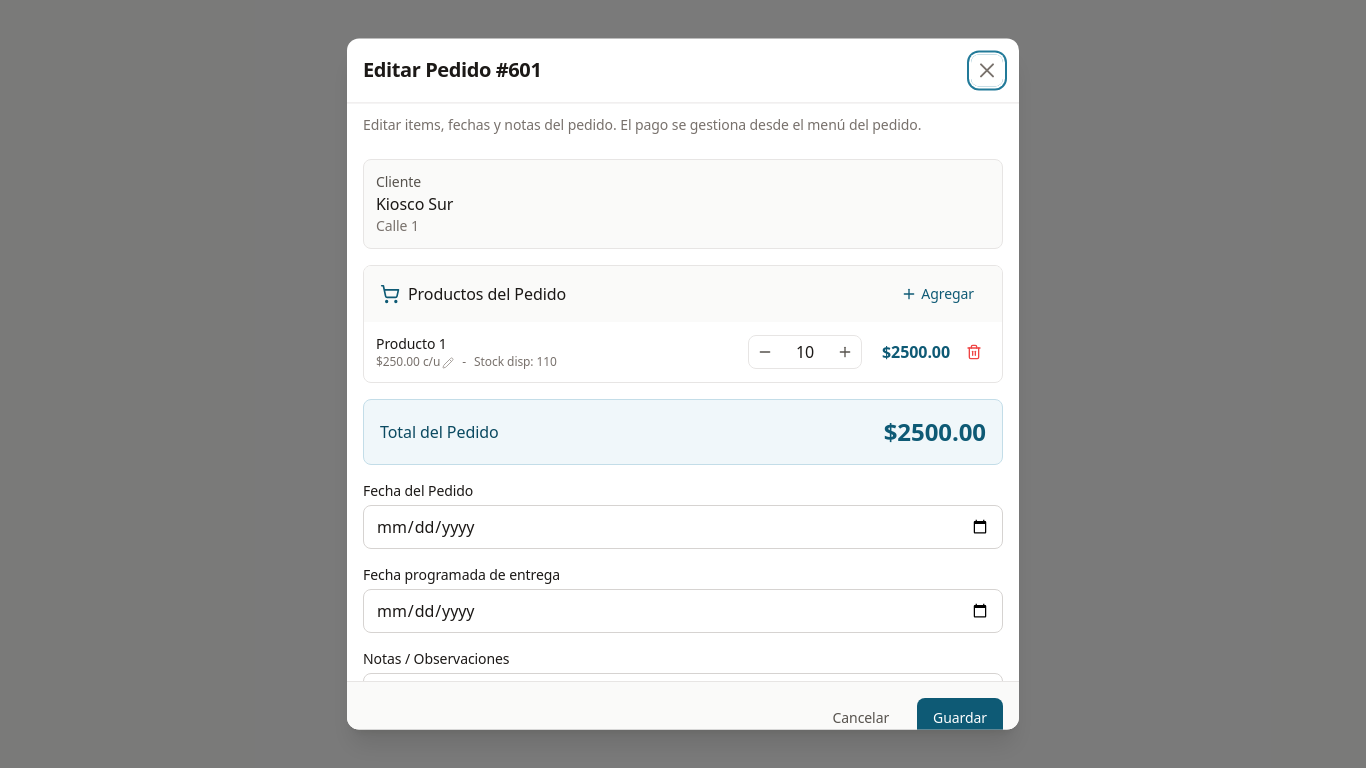
Test case: ModalEditarPedido — guardado › si el guardado falla, el botón se libera para reintentar
Expected: the text "Producto 1" is shown, [376, 334, 447, 354]
Click the 3rd button at (765, 352), box [749, 336, 781, 368]
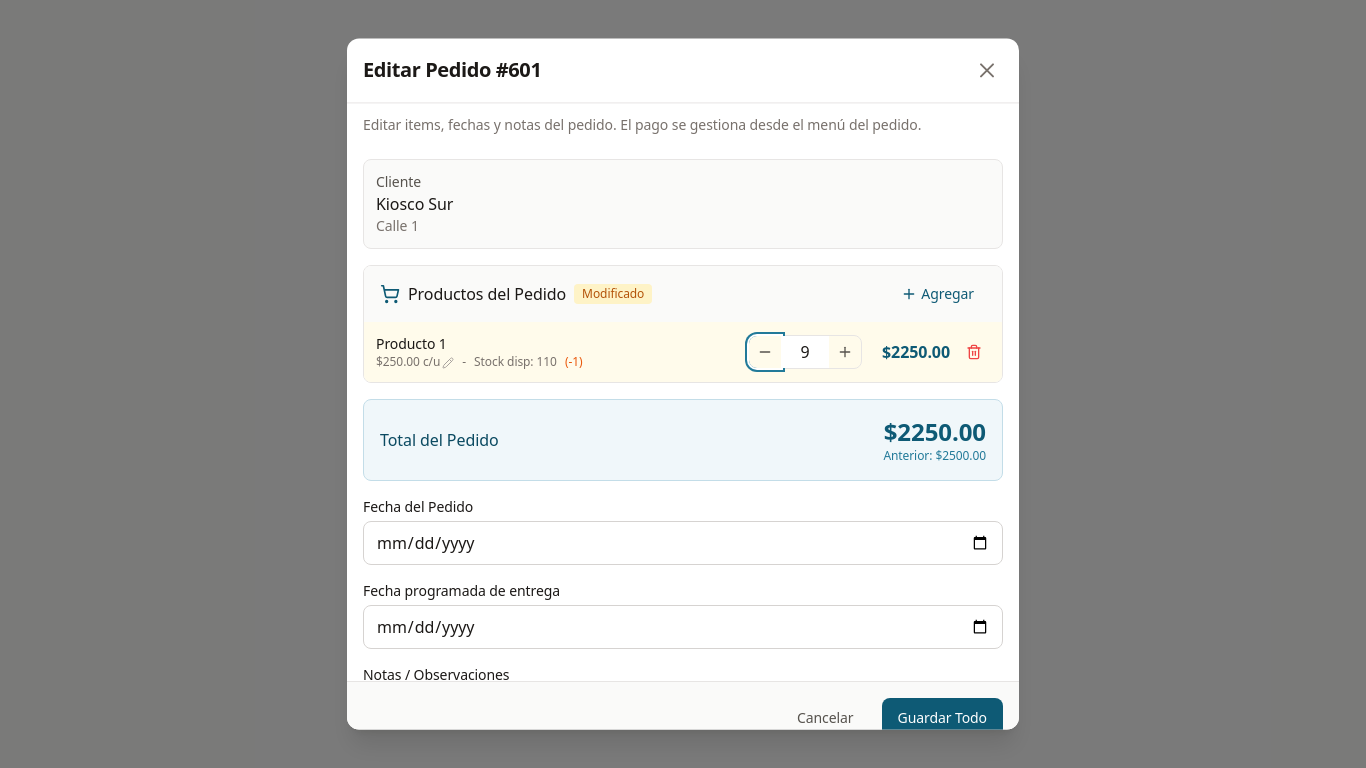
Click the button "Guardar Todo" at (942, 718), box [882, 698, 1003, 738]
(page scrolled)
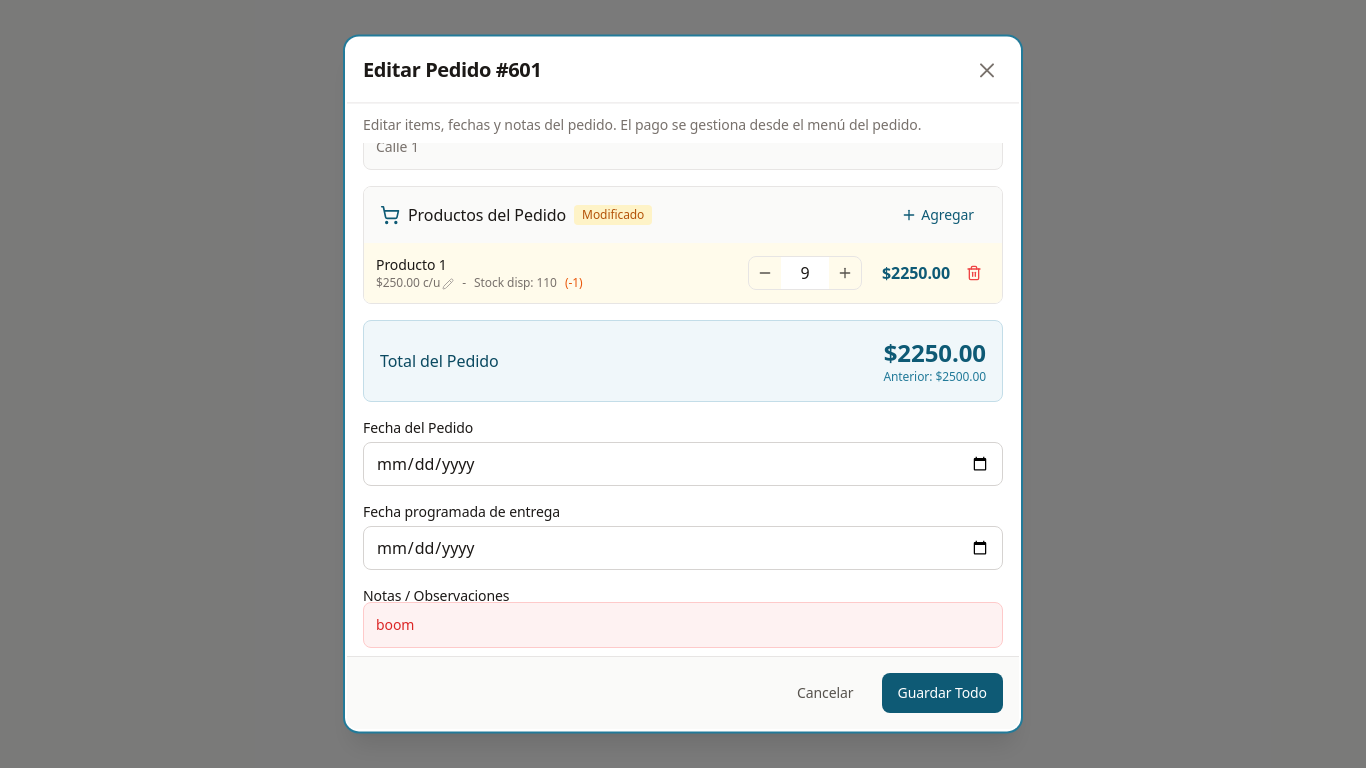
Expected: the button "Guardar Todo" is enabled, [882, 673, 1003, 713]
Now the text "boom" is shown, box [376, 615, 414, 634]
